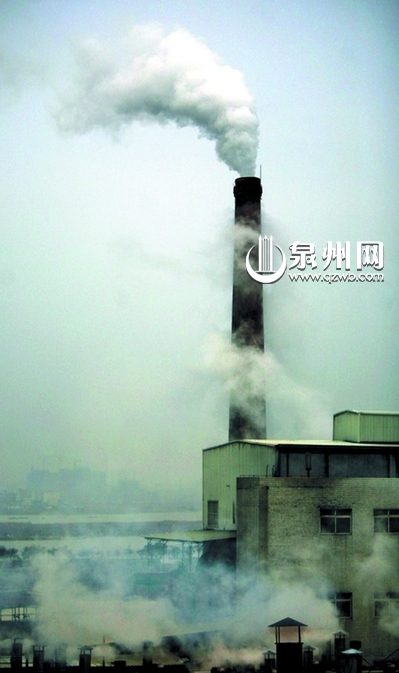dust: (93, 36, 272, 181)
